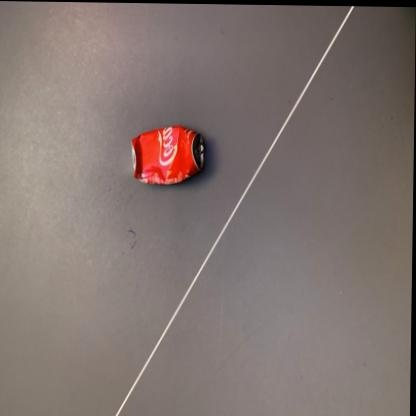trash: (132, 125, 204, 183)
